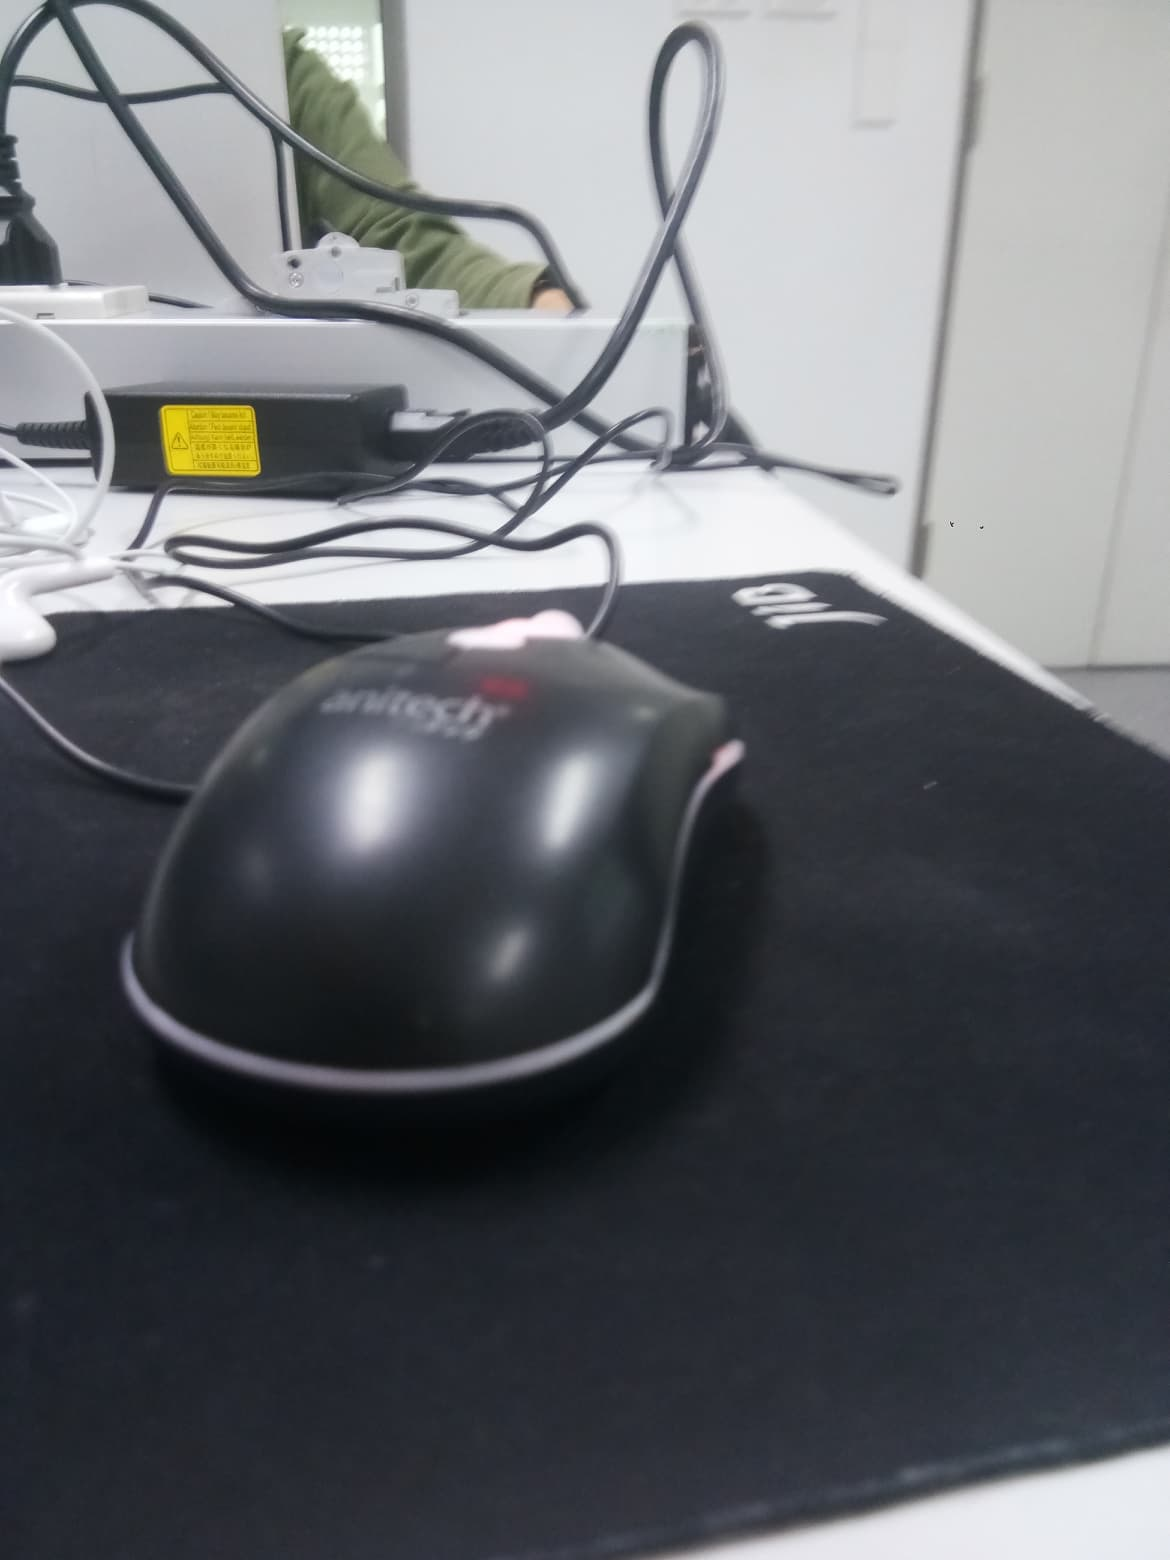mouse: (159, 529, 742, 1113)
